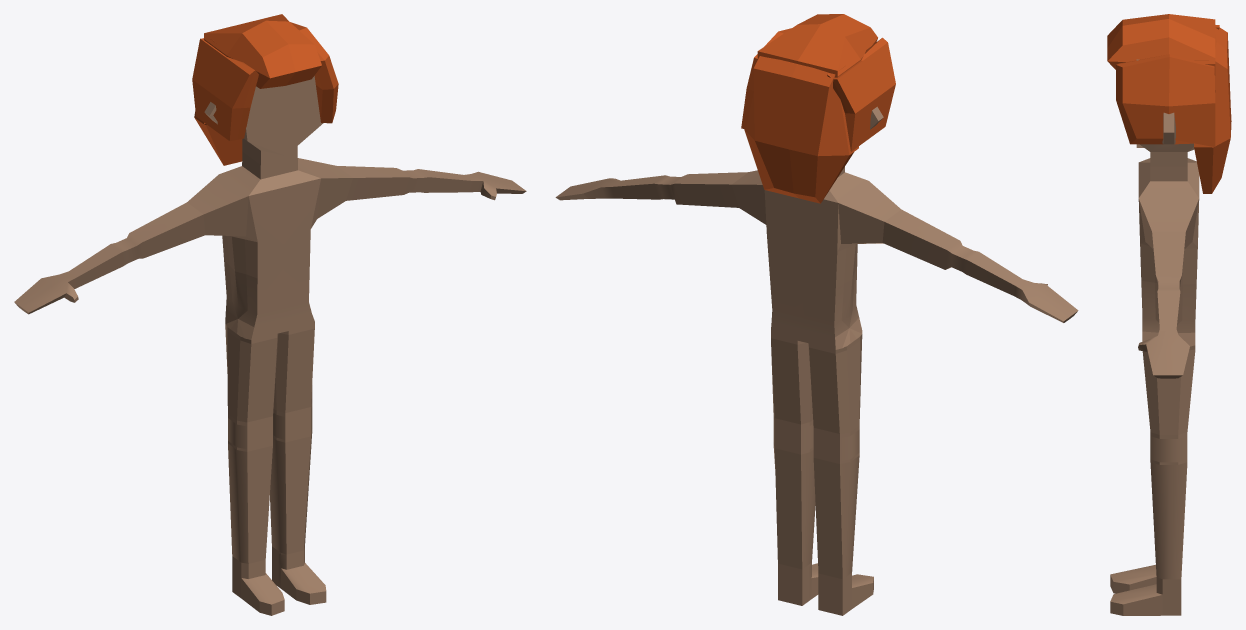
The model's file is GirlRedHair.fbx.
The picture shows the model from 3 angles, left to right: view 1: azimuth 30°, elevation 25°; view 2: azimuth 150°, elevation 25°; view 3: azimuth 270°, elevation 25°; orthographic projection. The views are drawn at different scales.
Parts seen in each view (by area): view 1: FemaleBody, pCube7, pCube6, pCube8, pCube9; view 2: FemaleBody, pCube9, pCube7, pCube6; view 3: FemaleBody, pCube8, pCube7, pCube9.
Part boxes in pixels (bbox=[...]): FemaleBody: bbox=[14, 76, 526, 615]; pCube7: bbox=[204, 14, 321, 88]; pCube6: bbox=[192, 38, 258, 140]; pCube8: bbox=[290, 22, 338, 123]; pCube9: bbox=[194, 38, 242, 165]; FemaleBody: bbox=[555, 106, 1078, 615]; pCube9: bbox=[744, 56, 858, 203]; pCube7: bbox=[757, 14, 877, 77]; pCube6: bbox=[827, 37, 895, 151]; FemaleBody: bbox=[1110, 59, 1199, 615]; pCube8: bbox=[1116, 54, 1215, 146]; pCube7: bbox=[1107, 14, 1215, 75]; pCube9: bbox=[1194, 25, 1231, 193].
Bounding box in the file's own units: 49.75 × 54.3 × 10.54.
